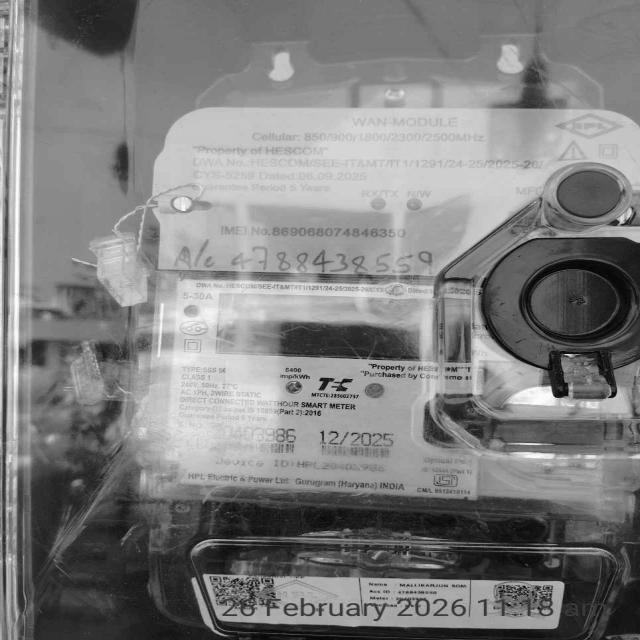meter: (157, 112, 640, 506)
